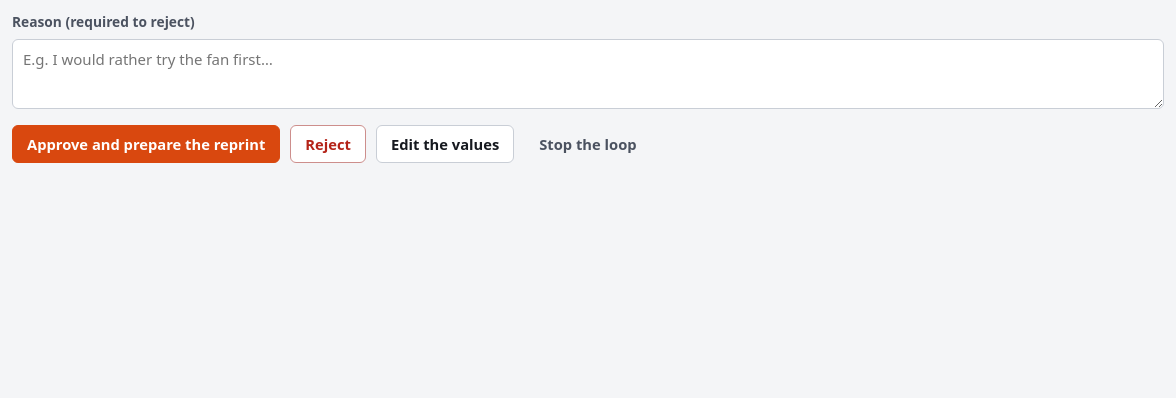
it: DecisionPanel › blocks values out of bounds
Click the button "Edit the values" at (445, 144), box [376, 125, 514, 163]
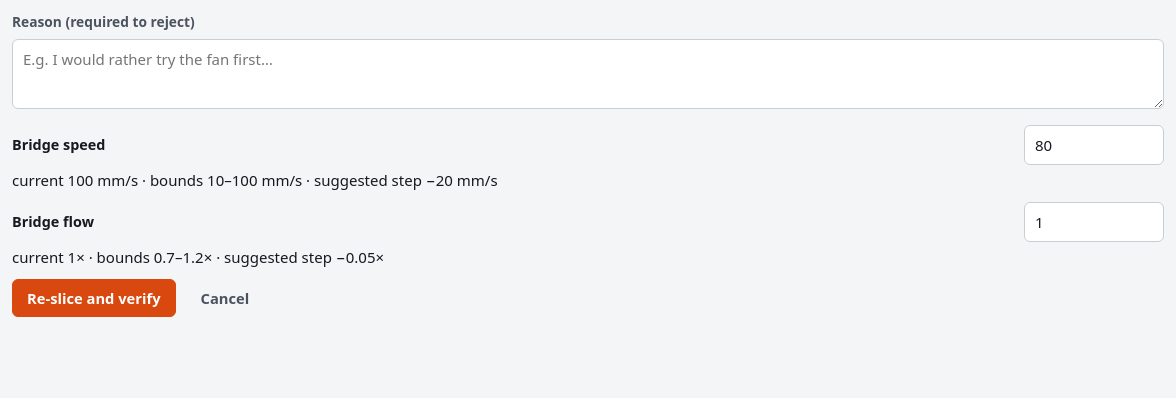
Replace the text in the number field labelled "Bridge speed" with "5" at (1094, 145), box [1024, 125, 1164, 165]
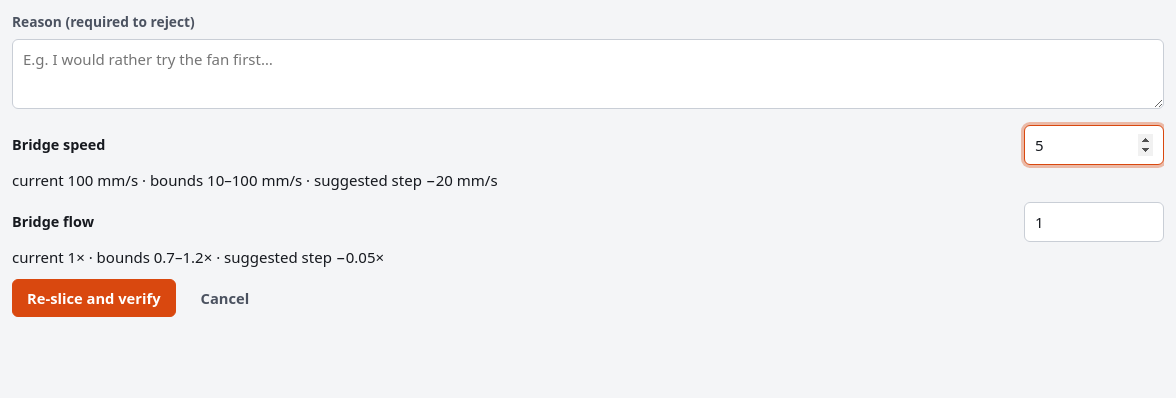
Click the button "Re-slice and verify" at (94, 298), box [12, 279, 176, 317]
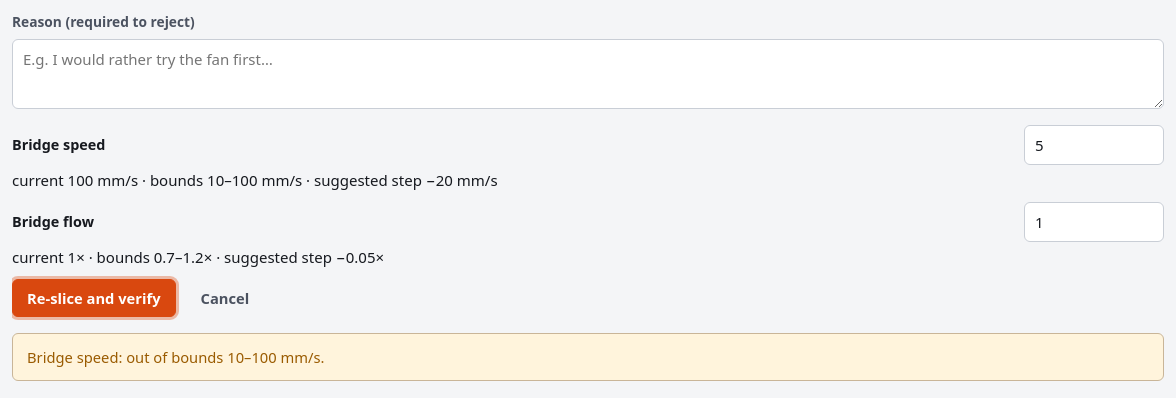
Check: the message shows "out of bounds", box [27, 347, 324, 367]
